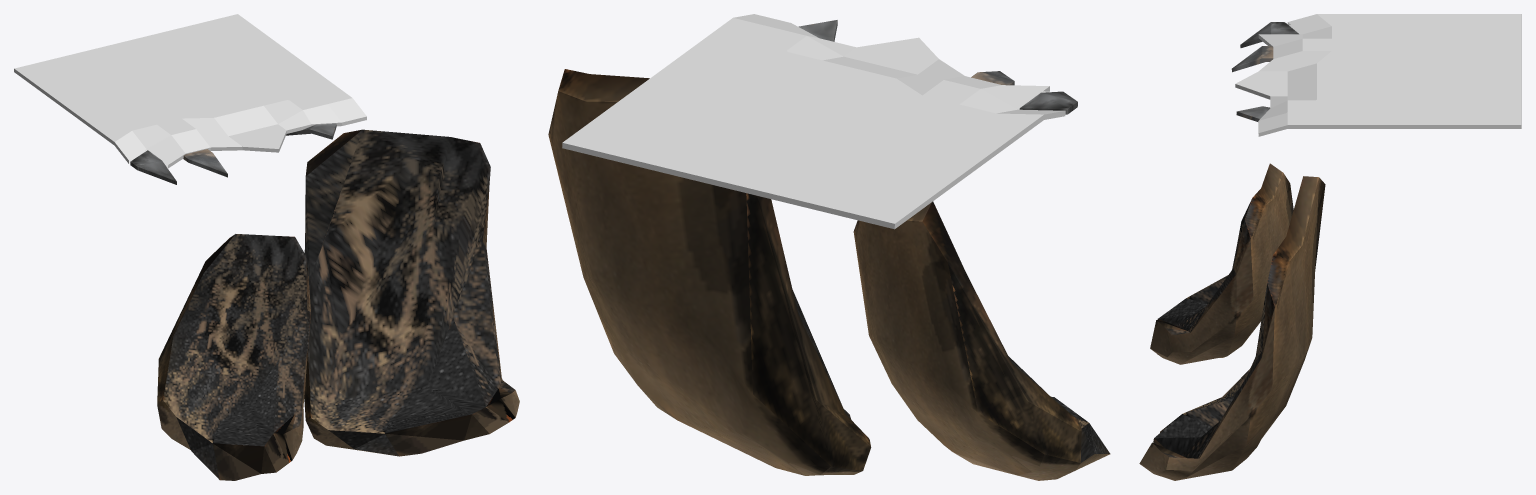
The model's file is Broken Road Piece.fbx.
3 views of the same model, side by side, from view 1: azimuth 30°, elevation 25°; view 2: azimuth 150°, elevation 25°; view 3: azimuth 270°, elevation 25° (orthographic). The views are drawn at different scales.
Parts seen in each view (by area): view 1: Broken Road 2, Road Pieces.003, Broken Road 1, Road Pieces.001; view 2: Broken Road 2, Road Pieces.003, Broken Road 1, Road Pieces.001; view 3: Road Pieces.003, Broken Road 2, Broken Road 1, Road Pieces.001.
Part boxes in pixels (x1,y1,x2,y2): Broken Road 2: (304, 129, 519, 456); Road Pieces.003: (14, 14, 366, 168); Broken Road 1: (157, 234, 310, 480); Road Pieces.001: (130, 123, 336, 184); Broken Road 2: (548, 69, 871, 475); Road Pieces.003: (562, 14, 1065, 229); Broken Road 1: (853, 201, 1110, 480); Road Pieces.001: (798, 20, 1077, 114); Road Pieces.003: (1235, 14, 1521, 136); Broken Road 2: (1139, 176, 1325, 480); Broken Road 1: (1150, 163, 1293, 364); Road Pieces.001: (1231, 22, 1298, 121).
Size of the model in its own units: 794 by 692 by 729.
